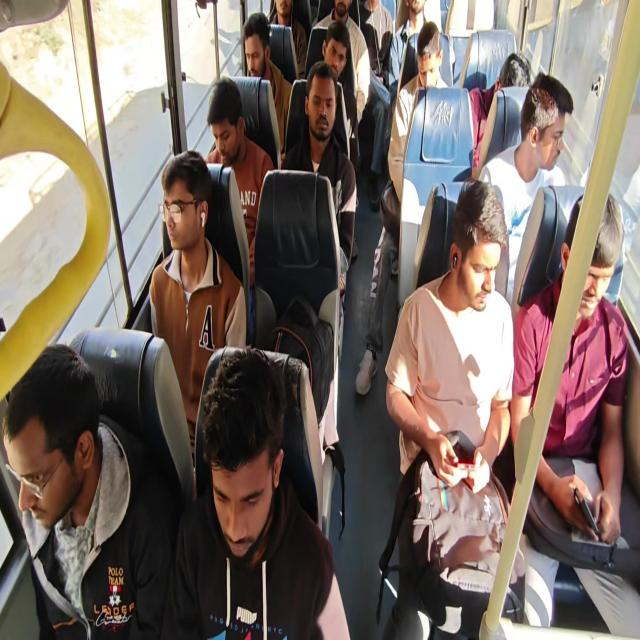person: (0, 322, 120, 586), (189, 358, 299, 570), (449, 199, 547, 372), (163, 152, 232, 341), (575, 198, 640, 382), (211, 85, 267, 223), (531, 78, 578, 178), (306, 62, 341, 169), (236, 8, 277, 95), (338, 0, 384, 64), (257, 0, 301, 51), (494, 61, 543, 101), (415, 23, 440, 98), (395, 0, 428, 40), (327, 27, 351, 81), (328, 0, 352, 25)
